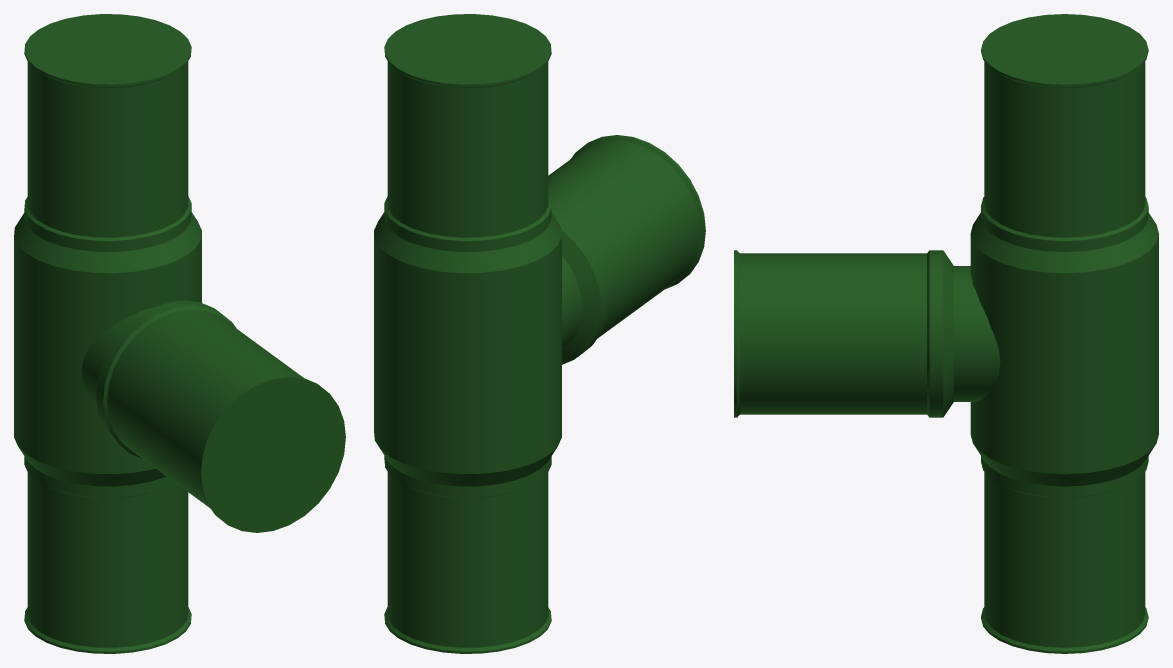
File: Pipe_T-Turn_16cm.fbx
The picture shows the model from 3 angles, left to right: view 1: azimuth 30°, elevation 25°; view 2: azimuth 150°, elevation 25°; view 3: azimuth 270°, elevation 25°; orthographic projection.
Parts seen in each view (by area): view 1: Pipe_T-Turn_16cm; view 2: Pipe_T-Turn_16cm; view 3: Pipe_T-Turn_16cm.
Part boxes in pixels (bbox=[...]): Pipe_T-Turn_16cm: bbox=[14, 14, 345, 653]; Pipe_T-Turn_16cm: bbox=[374, 14, 705, 653]; Pipe_T-Turn_16cm: bbox=[734, 14, 1158, 653].
Bounding box in the file's own units: 18 × 60 × 40.6.
